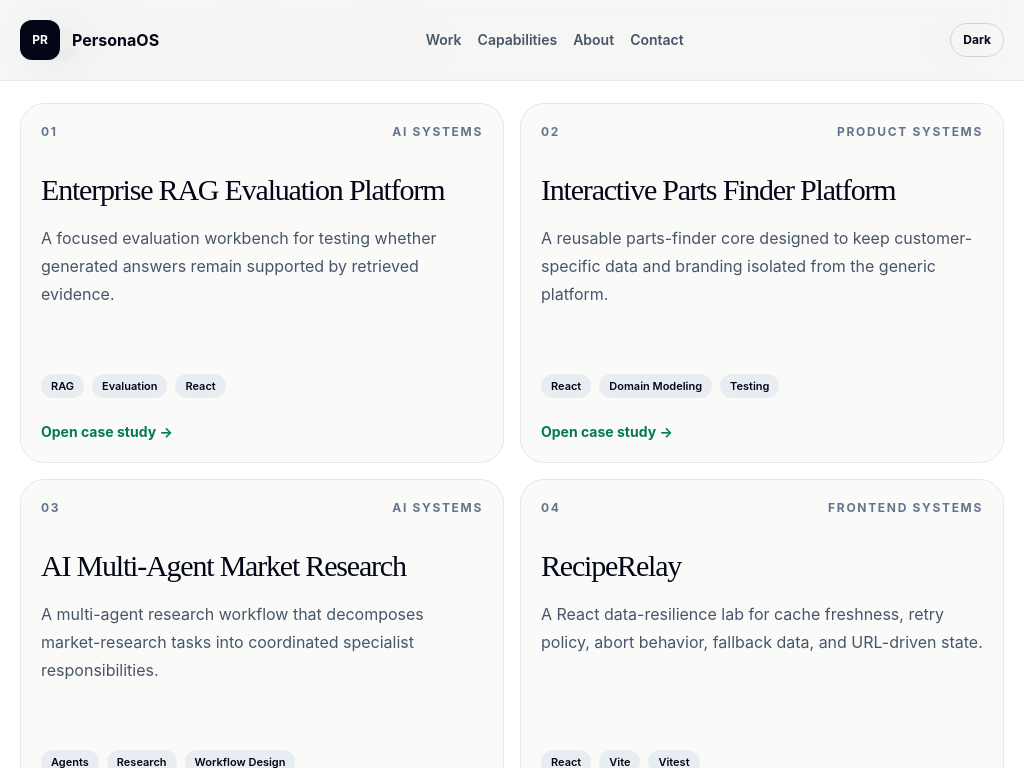
Test case: PersonaOS › opens a case-study dialog and closes it
(page scrolled)
Click the button "Open case study →" below "Enterprise RAG Evaluation Platform".
click(107, 432)  # box [41,422,483,442]
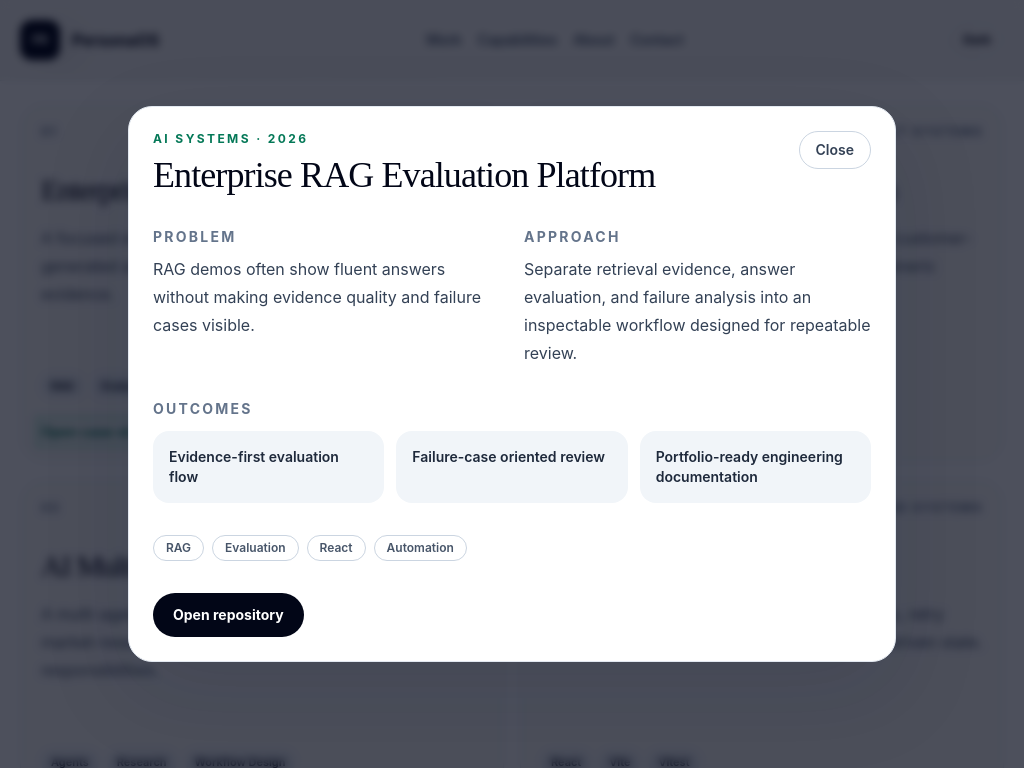
Expected: the heading "Problem" is shown, [153,228,236,245]
Click the button "Close".
click(835, 150)  # box [798,131,871,169]
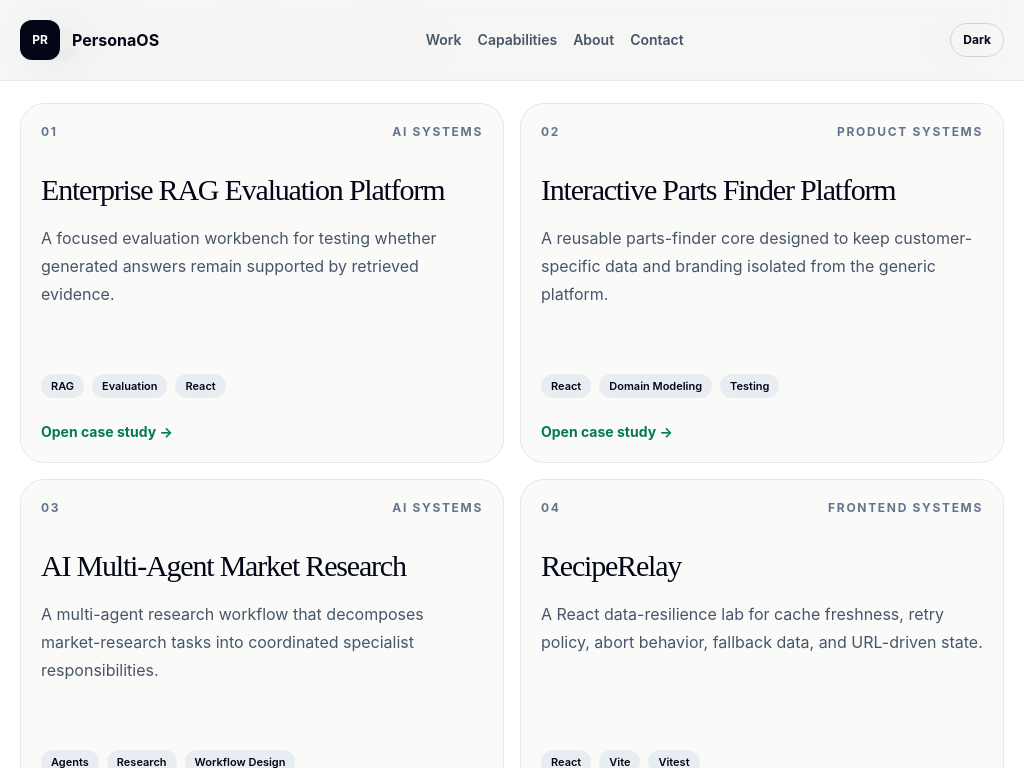
Expected: the dialog is gone
